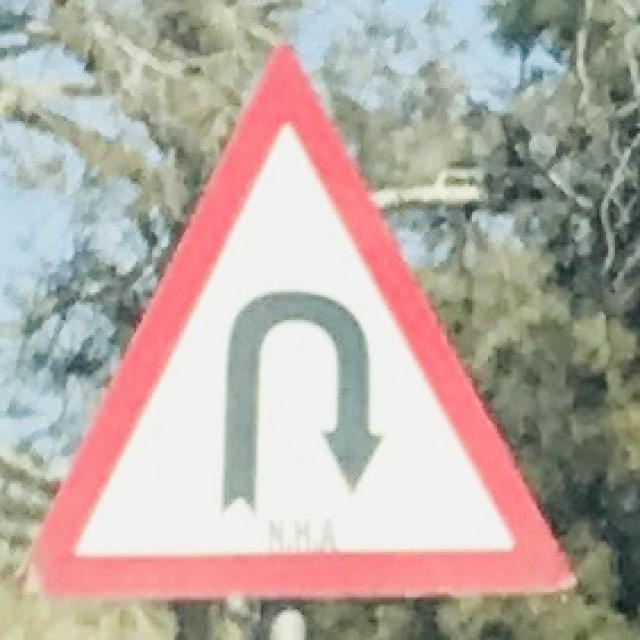u turn: (22, 44, 584, 588)
